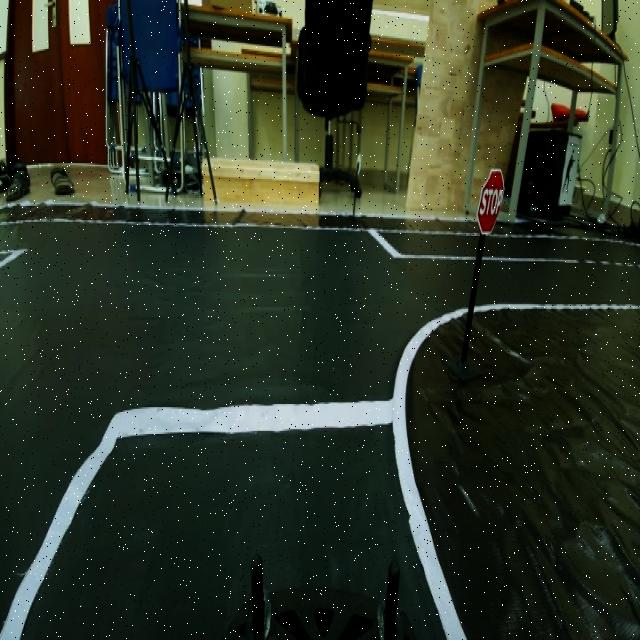stop: (477, 161, 504, 240)
